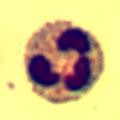neutrophil: (20, 19, 107, 103)
